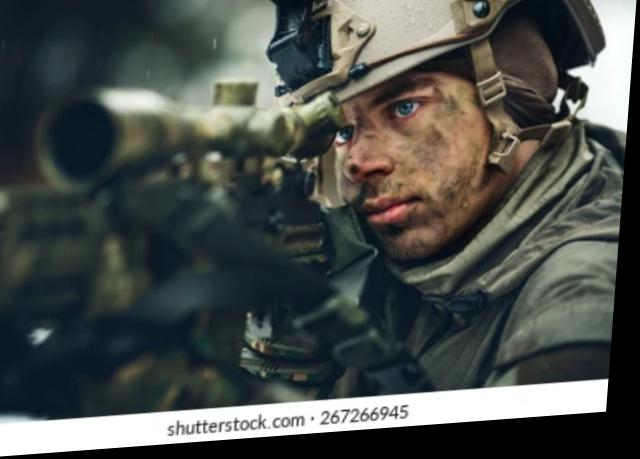other: (151, 0, 639, 409)
